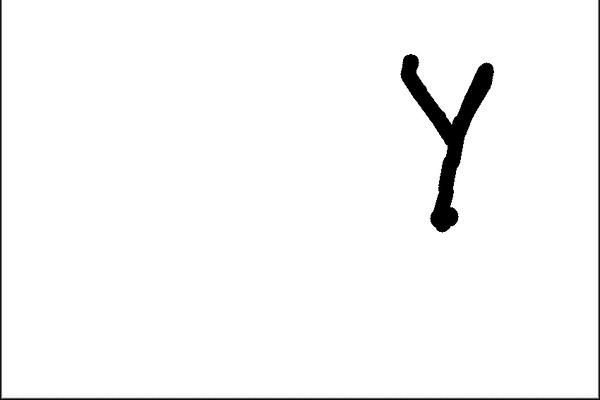Y: (382, 50, 505, 243)
